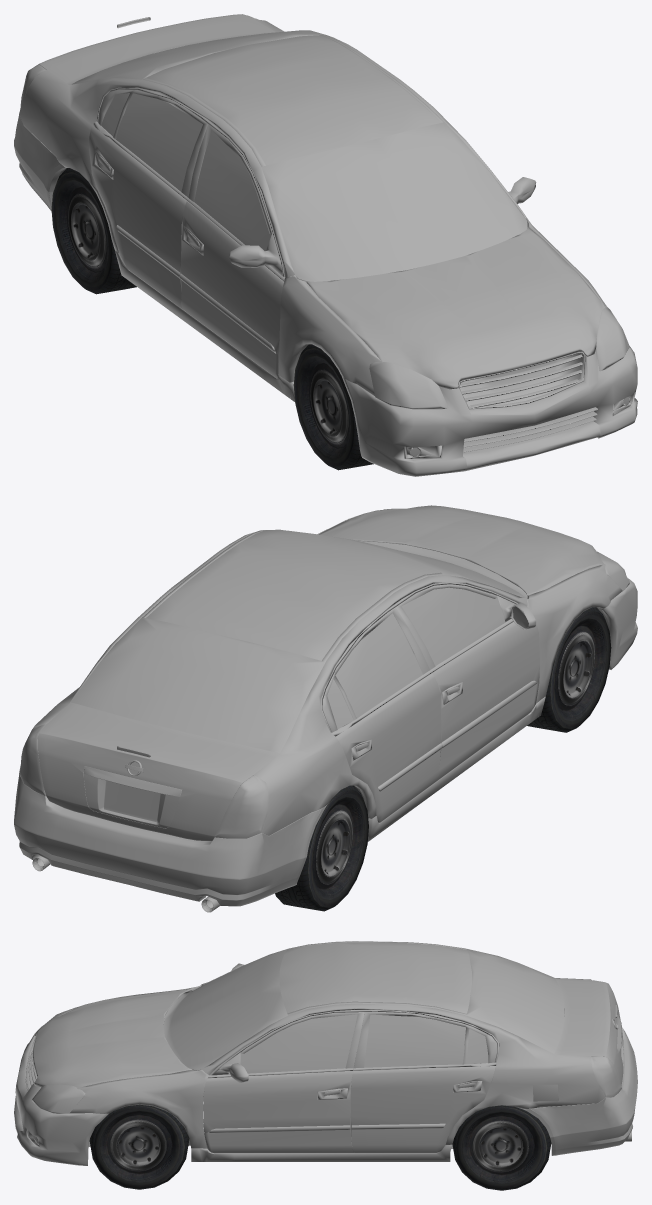
The model's file is Car01.fbx.
3 renders of one model, top to bottom at view 1: azimuth 30°, elevation 25°; view 2: azimuth 150°, elevation 25°; view 3: azimuth 270°, elevation 25°, orthographic. The views are drawn at different scales.
Visible parts, largest first — view 1: polySurface52; view 2: polySurface52; view 3: polySurface52.
Boxes of the visible parts, x1,y1,x2,y2 form: polySurface52: (14, 14, 637, 476); polySurface52: (14, 505, 637, 912); polySurface52: (14, 941, 637, 1190).
Bounding box in the file's own units: 20.34 × 15.18 × 47.89.
